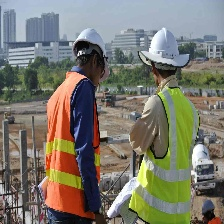helmet: (138, 27, 191, 69), (70, 27, 108, 53)
person: (127, 25, 201, 224), (42, 24, 114, 224)
vest: (45, 70, 101, 218), (143, 88, 198, 224)
